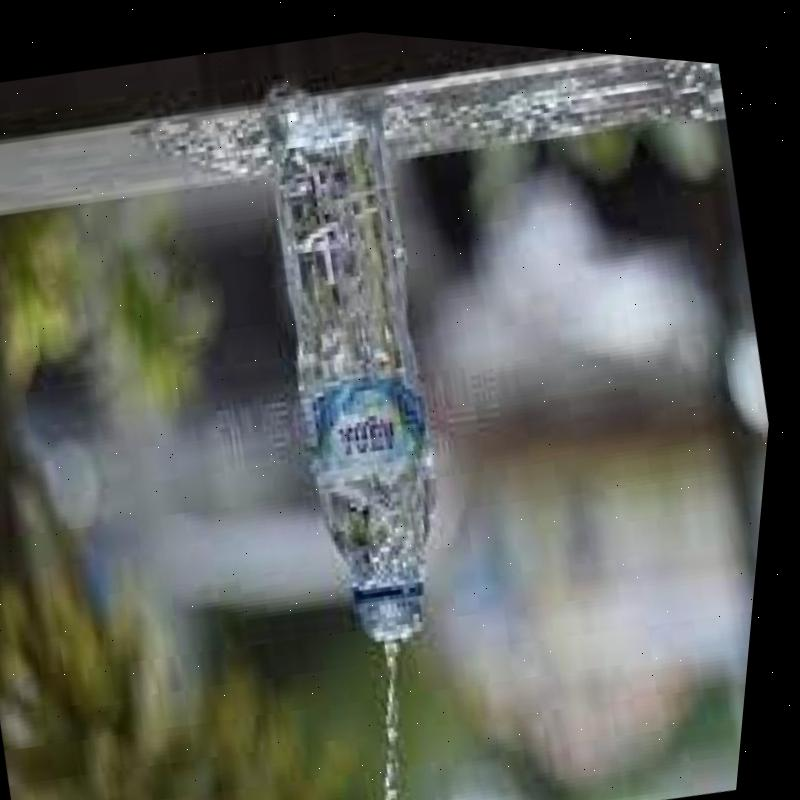botella: (221, 82, 503, 640)
